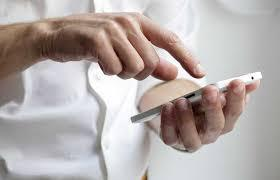Hand: (80, 13, 205, 84), (143, 82, 264, 153)
Smartphone: (123, 71, 263, 125)
